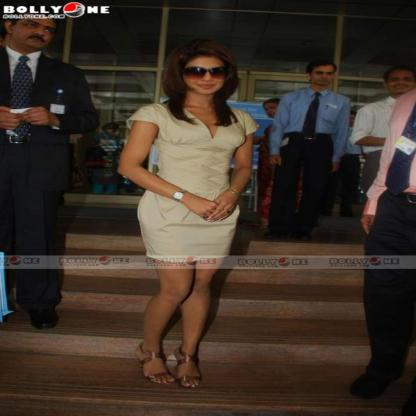face: (184, 61, 228, 95), (13, 17, 56, 48), (389, 72, 416, 95), (312, 67, 336, 85), (264, 105, 284, 119), (345, 116, 358, 128), (107, 127, 118, 135)
